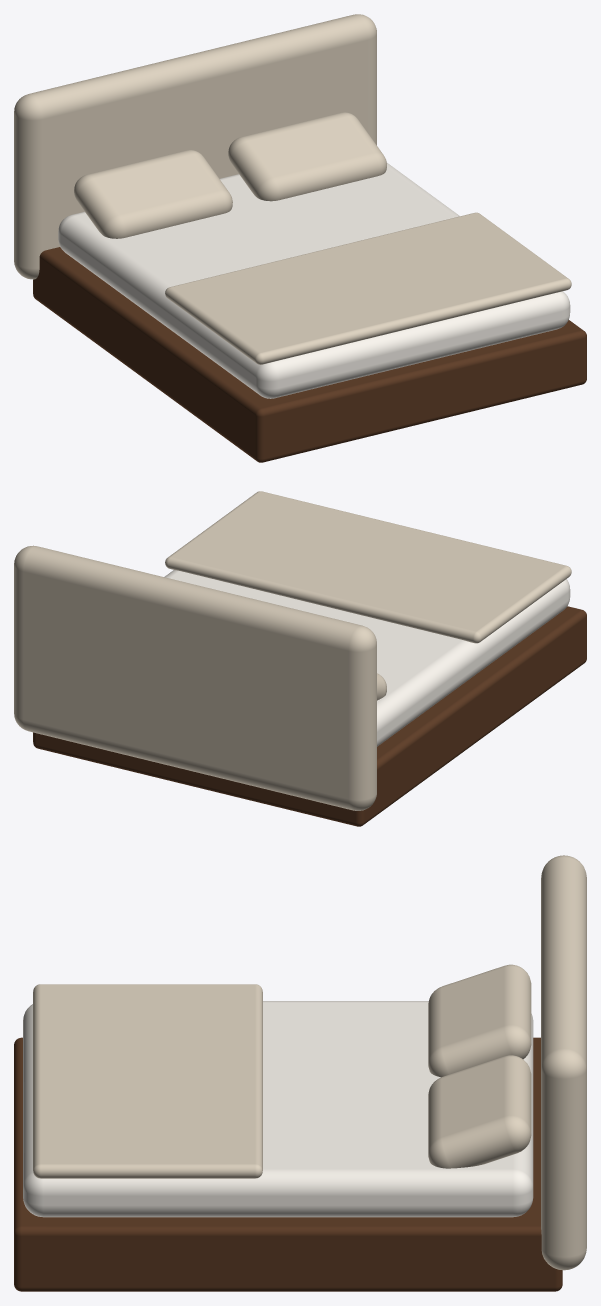
File: nest-bed.glb
3 renders of one model, top to bottom at view 1: azimuth 30°, elevation 25°; view 2: azimuth 150°, elevation 25°; view 3: azimuth 270°, elevation 25°, orthographic. The views are drawn at different scales.
Parts seen in each view (by area): view 1: headboard, mattress, frame, throw, pillow-r, pillow-l; view 2: headboard, throw, frame, mattress; view 3: mattress, throw, frame, headboard, pillow-r, pillow-l.
Boxes of the visible parts, x1,y1,x2,y2 form: headboard: (14,14,376,279); mattress: (58,163,570,398); frame: (33,247,586,462); throw: (165,212,571,364); pillow-r: (228,112,386,201); pillow-l: (74,150,232,238); headboard: (14,545,376,810); throw: (165,491,571,643); frame: (33,606,586,826); mattress: (164,570,570,746); mattress: (23,1001,533,1217); throw: (33,984,262,1178); frame: (14,1037,562,1291); headboard: (541,855,586,1270); pillow-r: (428,1055,531,1168); pillow-l: (428,964,531,1077).
Bounding box in the file's own units: 1.95 × 1.05 × 2.25.
